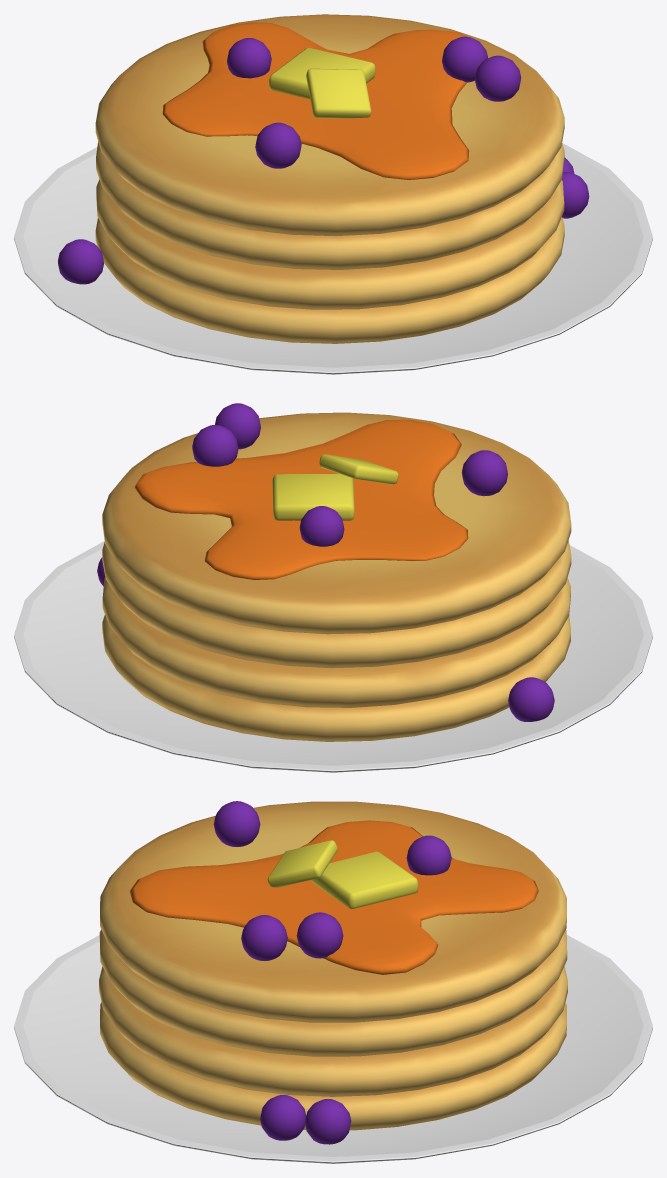
Rendered from pancake-stack.glb.
3 renders of one model, top to bottom at view 1: azimuth 30°, elevation 25°; view 2: azimuth 150°, elevation 25°; view 3: azimuth 270°, elevation 25°, orthographic.
Visible parts, largest first — view 1: Cylinder.004, Cylinder, Cube.002, Cylinder.002, Cylinder.001, Cylinder.003, Cube.001, Cube, Sphere.002, Sphere, Sphere.006, Sphere.001 (+2 smaller); view 2: Cylinder.004, Cylinder, Cube.002, Cylinder.002, Cylinder.003, Cylinder.001, Cube, Sphere.002, Sphere.006, Sphere.001, Sphere.004, Cube.001 (+1 smaller); view 3: Cylinder.004, Cylinder, Cube.002, Cylinder.002, Cylinder.003, Cylinder.001, Cube, Cube.001, Sphere, Sphere.002, Sphere.003, Sphere.001 (+2 smaller).
Part boxes in pixels (box(x1,y1,x2,y2)): Cylinder.004: box(95, 14, 564, 236); Cylinder: box(14, 143, 652, 374); Cube.002: box(162, 22, 469, 179); Cylinder.002: box(96, 179, 564, 309); Cylinder.001: box(95, 217, 564, 343); Cylinder.003: box(96, 141, 564, 269); Cube.001: box(306, 68, 371, 118); Cube: box(269, 47, 375, 99); Sphere.002: box(255, 122, 301, 168); Sphere: box(475, 55, 521, 101); Sphere.006: box(58, 239, 103, 284); Sphere.001: box(442, 36, 487, 82); Cylinder.004: box(102, 412, 571, 634); Cylinder: box(14, 541, 652, 772); Cube.002: box(134, 419, 468, 579); Cylinder.002: box(102, 577, 570, 707); Cylinder.003: box(102, 540, 571, 668); Cylinder.001: box(102, 615, 570, 741); Cube: box(272, 473, 354, 520); Sphere.002: box(461, 450, 507, 496); Sphere.006: box(508, 677, 554, 721); Sphere.001: box(192, 425, 238, 466); Sphere.004: box(299, 506, 344, 546); Cube.001: box(319, 454, 398, 484); Cylinder.004: box(100, 801, 566, 1022); Cylinder: box(14, 935, 652, 1163); Cube.002: box(129, 820, 538, 974); Cylinder.002: box(99, 966, 567, 1096); Cylinder.003: box(99, 929, 567, 1056); Cylinder.001: box(100, 1002, 566, 1130); Cube: box(311, 851, 418, 908); Cube.001: box(267, 840, 337, 887); Sphere: box(241, 915, 287, 960); Sphere.002: box(213, 801, 260, 846); Sphere.003: box(260, 1095, 306, 1140); Sphere.001: box(296, 912, 343, 958).
Size of the model in its own units: 2.64 by 0.9928 by 2.64.
Materials: 5 (1 with a texture image).
